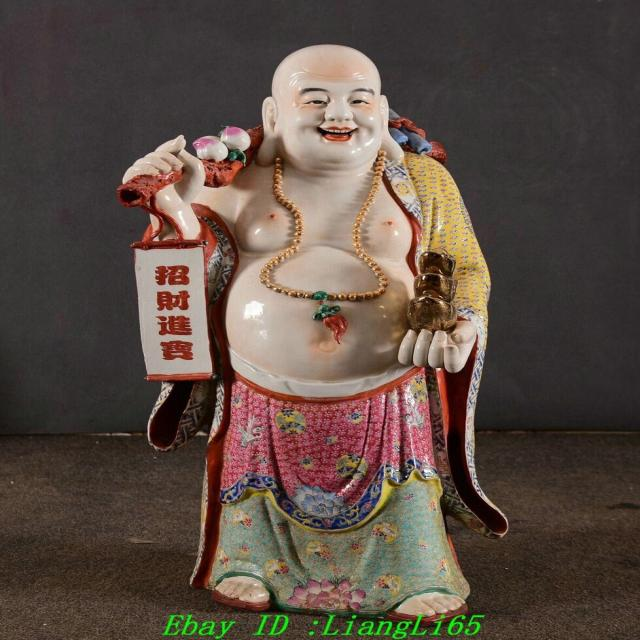Smiling Buddha: (114, 39, 496, 510)
